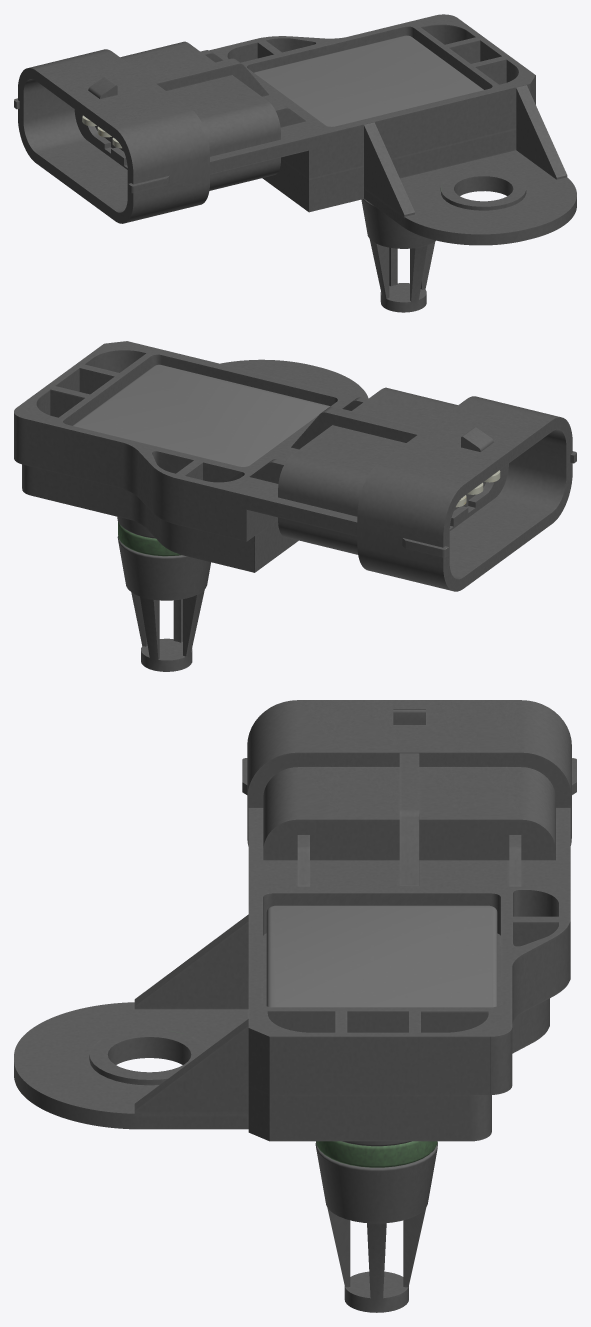
Rendered from MAP Sensor.glb.
3 views of the same model, one above another, from view 1: azimuth 30°, elevation 25°; view 2: azimuth 150°, elevation 25°; view 3: azimuth 270°, elevation 25° (orthographic). The views are drawn at different scales.
Visible parts, largest first — view 1: mapSensor; view 2: mapSensor; view 3: mapSensor.
Part boxes in pixels (x1,y1,x2,y2): mapSensor: (14,14,576,312); mapSensor: (14,341,576,671); mapSensor: (14,700,576,1312).
Size of the model in its own units: 3.98 by 2.59 by 3.34.
Materials: 1 (1 with a texture image).
